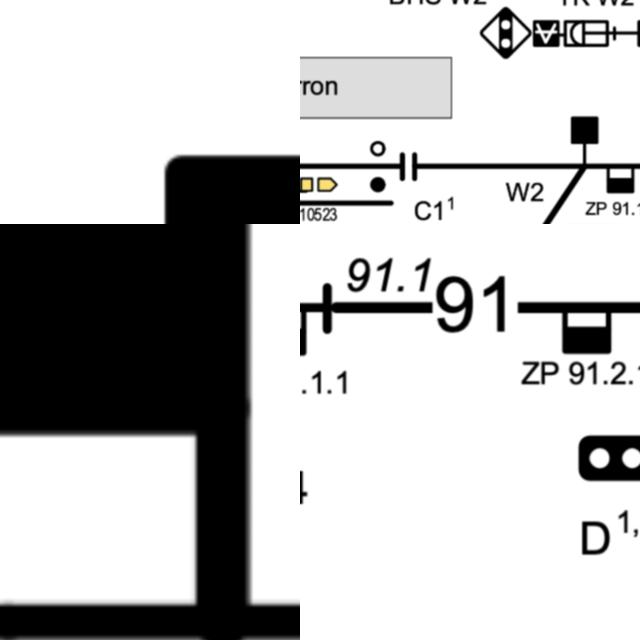radzaehler: (0, 224, 272, 640), (131, 130, 300, 224), (556, 296, 620, 362), (593, 161, 640, 200), (300, 293, 313, 365)
trackjoint: (393, 152, 427, 184)
tracknumber: (430, 273, 514, 341)
weiche: (564, 112, 600, 172)
